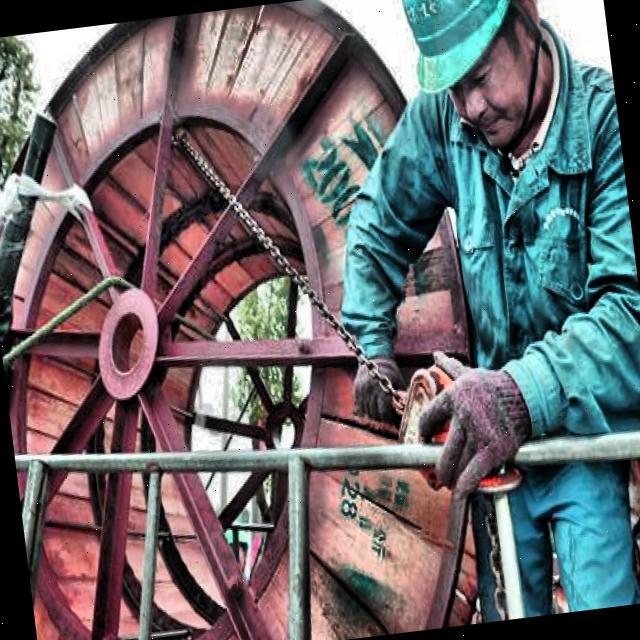helmet: (391, 0, 578, 164)
